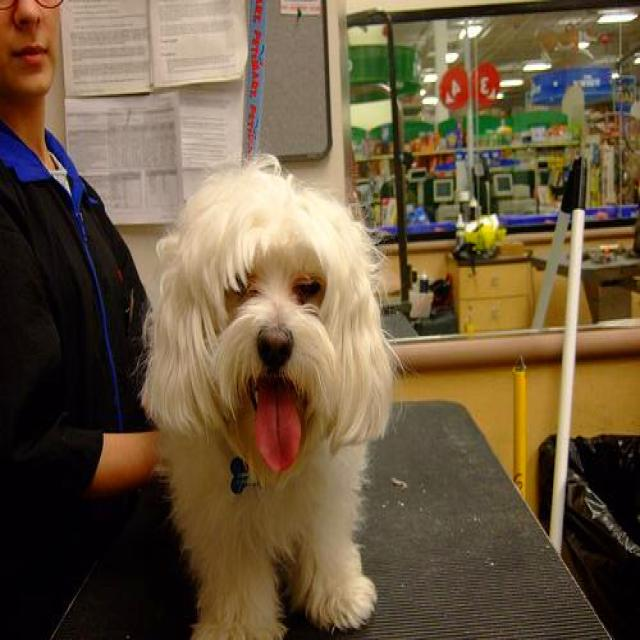maltese_dog: (138, 156, 396, 638)
